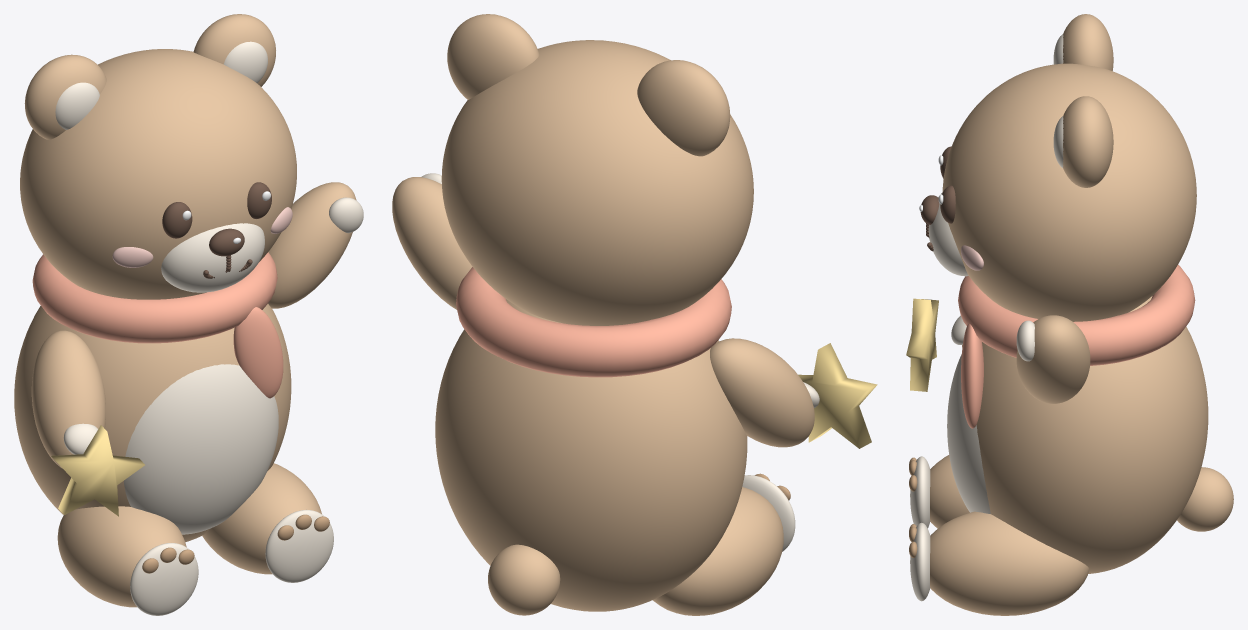
File: osito.glb
3 renders of one model, left to right at view 1: azimuth 30°, elevation 25°; view 2: azimuth 150°, elevation 25°; view 3: azimuth 270°, elevation 25°, orthographic. The views are drawn at different scales.
Parts seen in each view (by area): view 1: cabeza, barriga, cuerpo, bufanda, pierna_izq, brazo_izq, brazo_der, pierna_der, hocico, estrella, oreja_izq, planta_izq (+11 smaller); view 2: cabeza, cuerpo, bufanda, pierna_izq, brazo_izq, oreja_izq, brazo_der, oreja_der, estrella, cola, planta_izq; view 3: cabeza, cuerpo, pierna_der, bufanda, brazo_der, oreja_der, barriga, cola, oreja_izq, estrella, bufanda_punta, pierna_izq (+5 smaller).
Boxes of the visible parts, left/top/right/bottom form: cabeza: left=20, top=49, right=296, bottom=299; barriga: left=124, top=364, right=278, bottom=534; cuerpo: left=14, top=304, right=291, bottom=542; bufanda: left=32, top=252, right=277, bottom=343; pierna_izq: left=57, top=506, right=186, bottom=607; brazo_izq: left=31, top=330, right=105, bottom=468; brazo_der: left=268, top=182, right=356, bottom=308; pierna_der: left=202, top=463, right=321, bottom=574; hocico: left=161, top=223, right=264, bottom=292; estrella: left=51, top=425, right=144, bottom=516; oreja_izq: left=24, top=54, right=106, bottom=139; planta_izq: left=130, top=543, right=198, bottom=615; cabeza: left=441, top=40, right=753, bottom=325; cuerpo: left=435, top=299, right=747, bottom=611; bufanda: left=456, top=267, right=731, bottom=377; pierna_izq: left=653, top=487, right=783, bottom=615; brazo_izq: left=710, top=338, right=814, bottom=447; oreja_izq: left=637, top=60, right=730, bottom=156; brazo_der: left=392, top=177, right=472, bottom=309; oreja_der: left=447, top=14, right=539, bottom=99; estrella: left=798, top=343, right=877, bottom=448; cola: left=488, top=544, right=560, bottom=615; planta_izq: left=742, top=475, right=795, bottom=551; cabeza: left=942, top=63, right=1196, bottom=321; cuerpo: left=976, top=296, right=1208, bottom=573; pierna_der: left=930, top=511, right=1089, bottom=615; bufanda: left=958, top=264, right=1195, bottom=365; brazo_der: left=1016, top=315, right=1090, bottom=403; oreja_der: left=1063, top=96, right=1113, bottom=187; barriga: left=947, top=354, right=990, bottom=513; cola: left=1177, top=467, right=1233, bottom=531; oreja_izq: left=1063, top=14, right=1113, bottom=70; estrella: left=906, top=298, right=938, bottom=391; bufanda_punta: left=961, top=323, right=983, bottom=428; pierna_izq: left=930, top=455, right=969, bottom=528.
Bounding box in the file's own units: 0.2212 × 0.3 × 0.1721.
